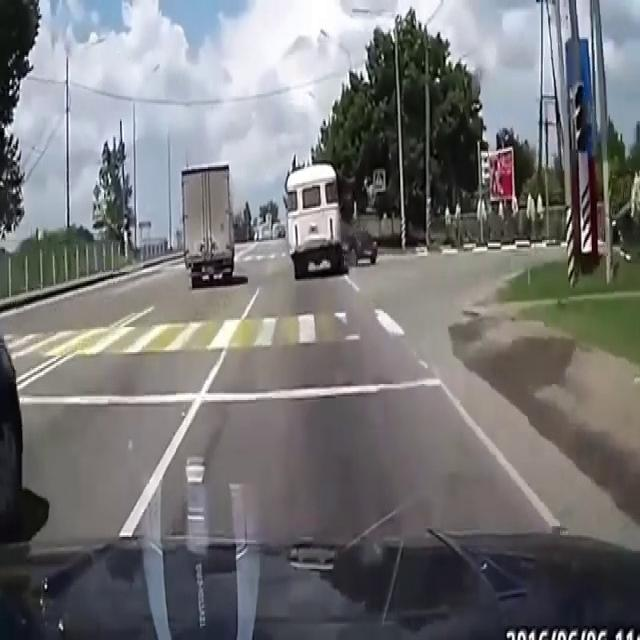moderate: (282, 156, 381, 287)
